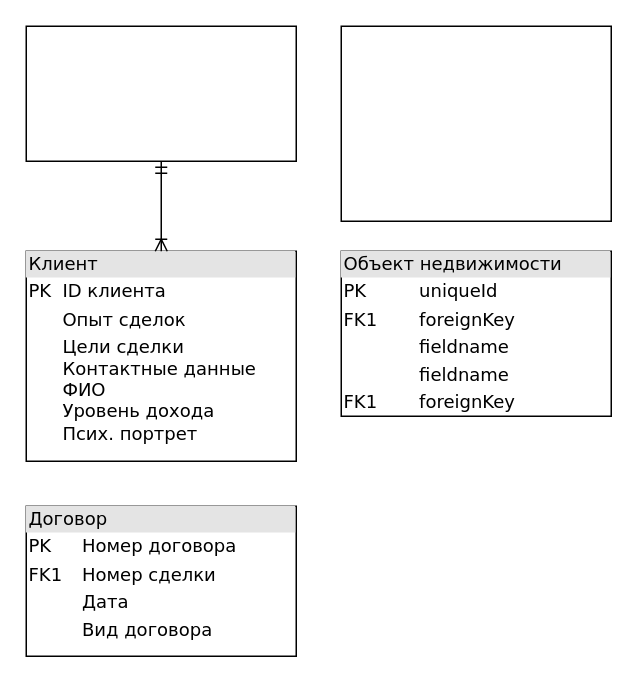
This 638x683 diagram has some shape labels left out. The centre of each missing label's shape, as x and y in pixels:
"Риелтор PK ID риелтора ФИО Опыт работы Специализация" belongs at pixel 160 93.
"Сделка PK Номер сделки FK1 ID клиента FK2 ID риелтора Дата Тип сделки Стоимость" belongs at pixel 475 123.
